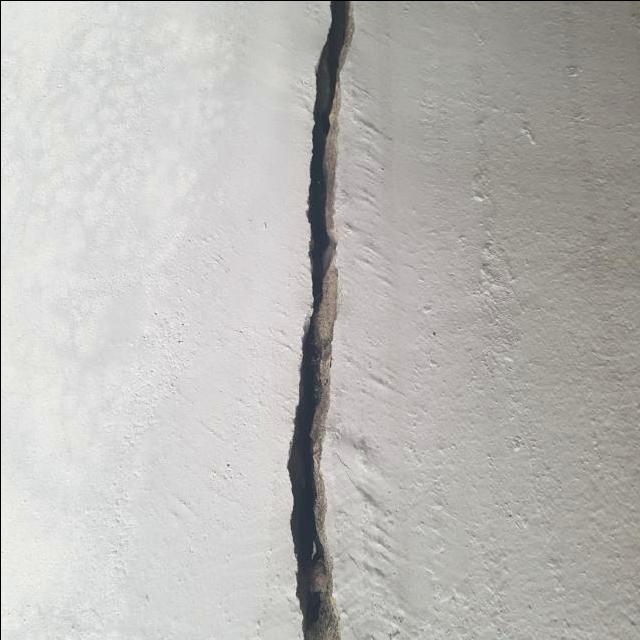SurfaceCrack: (245, 0, 408, 640)
